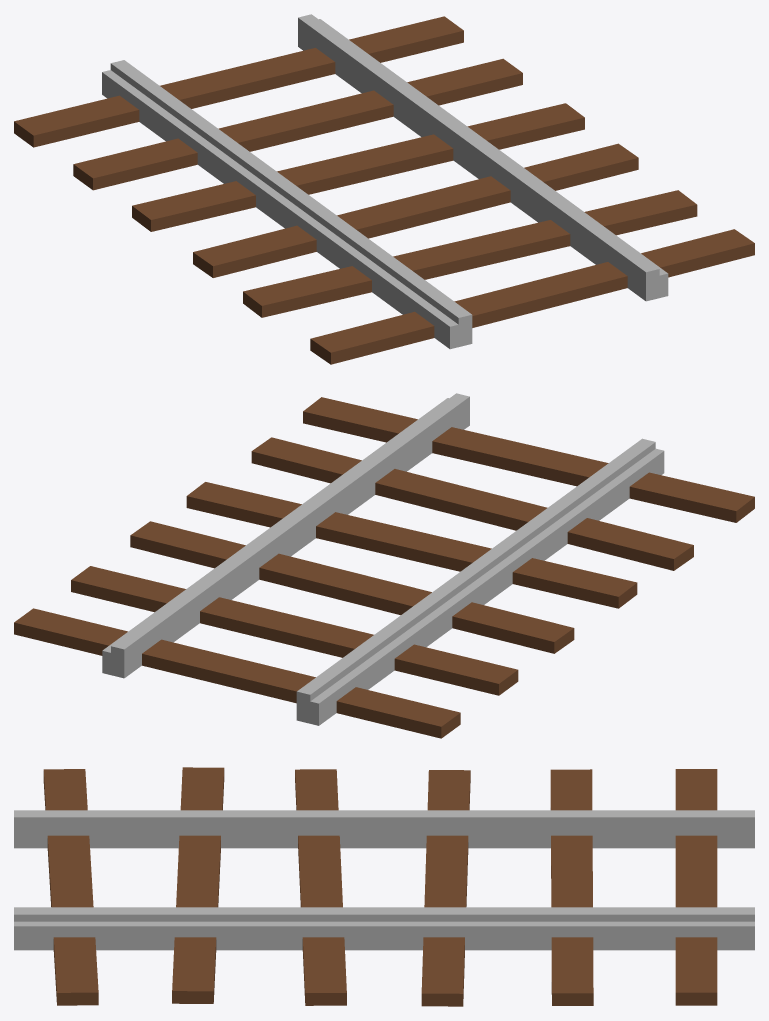
Rendered from rail-straight.glb.
3 renders of one model, top to bottom at view 1: azimuth 30°, elevation 25°; view 2: azimuth 150°, elevation 25°; view 3: azimuth 270°, elevation 25°, orthographic. The views are drawn at different scales.
Visible parts, largest first — view 1: rail-straight; view 2: rail-straight; view 3: rail-straight.
Boxes of the visible parts, box(x1,y1,x2,y2) form: rail-straight: box(14, 14, 754, 364); rail-straight: box(14, 393, 754, 738); rail-straight: box(14, 767, 754, 1006).
Size of the model in its own units: 0.7231 by 0.0463 by 1.
